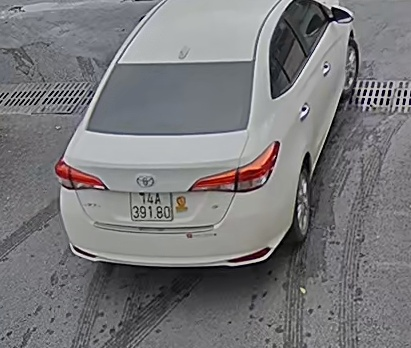vehicle plate: (126, 188, 174, 220)
